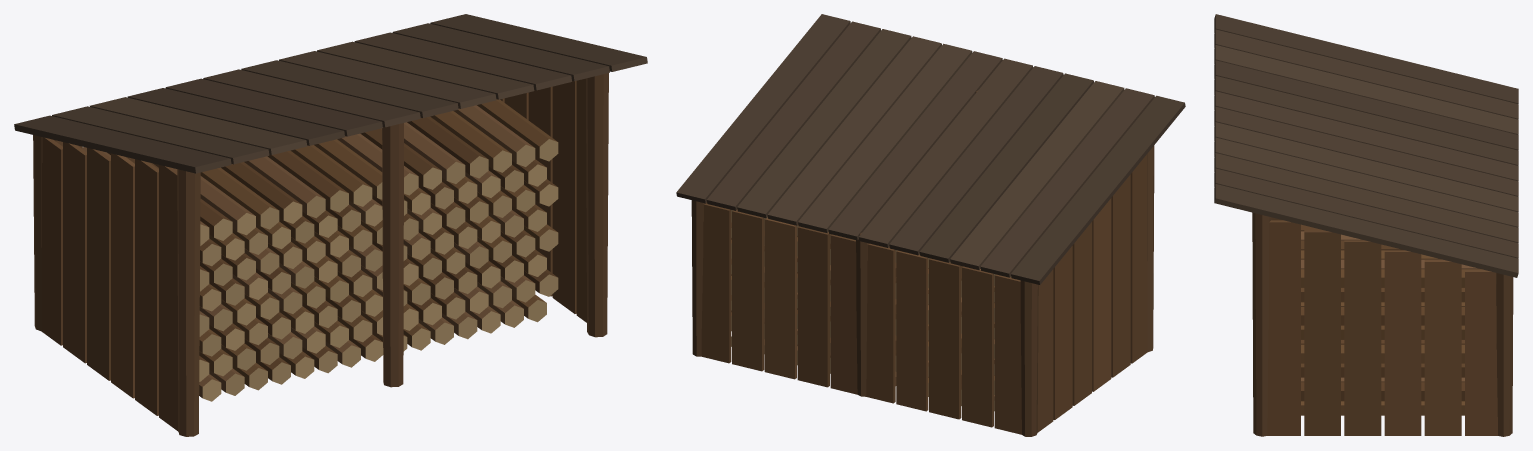
Rendered from woodshed.glb.
3 renders of one model, left to right at view 1: azimuth 30°, elevation 25°; view 2: azimuth 150°, elevation 25°; view 3: azimuth 270°, elevation 25°, orthographic. The views are drawn at different scales.
Parts seen in each view (by area): view 1: woodshed_log, woodshed_wood, woodshed_roof; view 2: woodshed_roof, woodshed_wood, woodshed_log; view 3: woodshed_roof, woodshed_wood, woodshed_log.
Part boxes in pixels (<box>): woodshed_log: <box>82,99,558,401</box>; woodshed_wood: <box>33,73,608,436</box>; woodshed_roof: <box>14,14,647,173</box>; woodshed_roof: <box>676,14,1185,284</box>; woodshed_wood: <box>691,90,1154,436</box>; woodshed_log: <box>731,209,1011,411</box>; woodshed_roof: <box>1214,14,1518,277</box>; woodshed_wood: <box>1252,212,1513,436</box>; woodshed_log: <box>1301,224,1483,415</box>.
Bounding box in the file's own units: 3.98 × 2.45 × 2.78.
